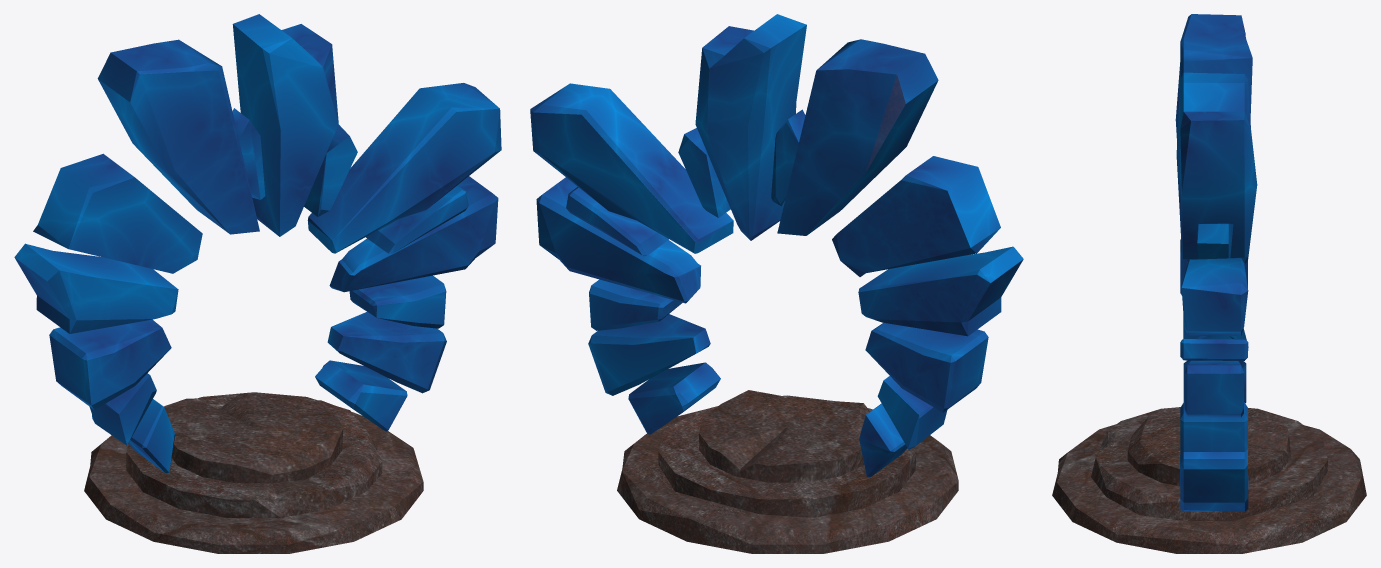
File: Stone_portal.fbx
3 renders of one model, left to right at view 1: azimuth 30°, elevation 25°; view 2: azimuth 150°, elevation 25°; view 3: azimuth 270°, elevation 25°, orthographic. The views are drawn at different scales.
Visible parts, largest first — view 1: Stone_portal; view 2: Stone_portal; view 3: Stone_portal.
Boxes of the visible parts, x1,y1,x2,y2 form: Stone_portal: (14, 14, 501, 553); Stone_portal: (530, 14, 1023, 553); Stone_portal: (1052, 14, 1366, 553).
Bounding box in the file's own units: 3.98 × 3.72 × 2.54.
Materials: 1 (1 with a texture image).
